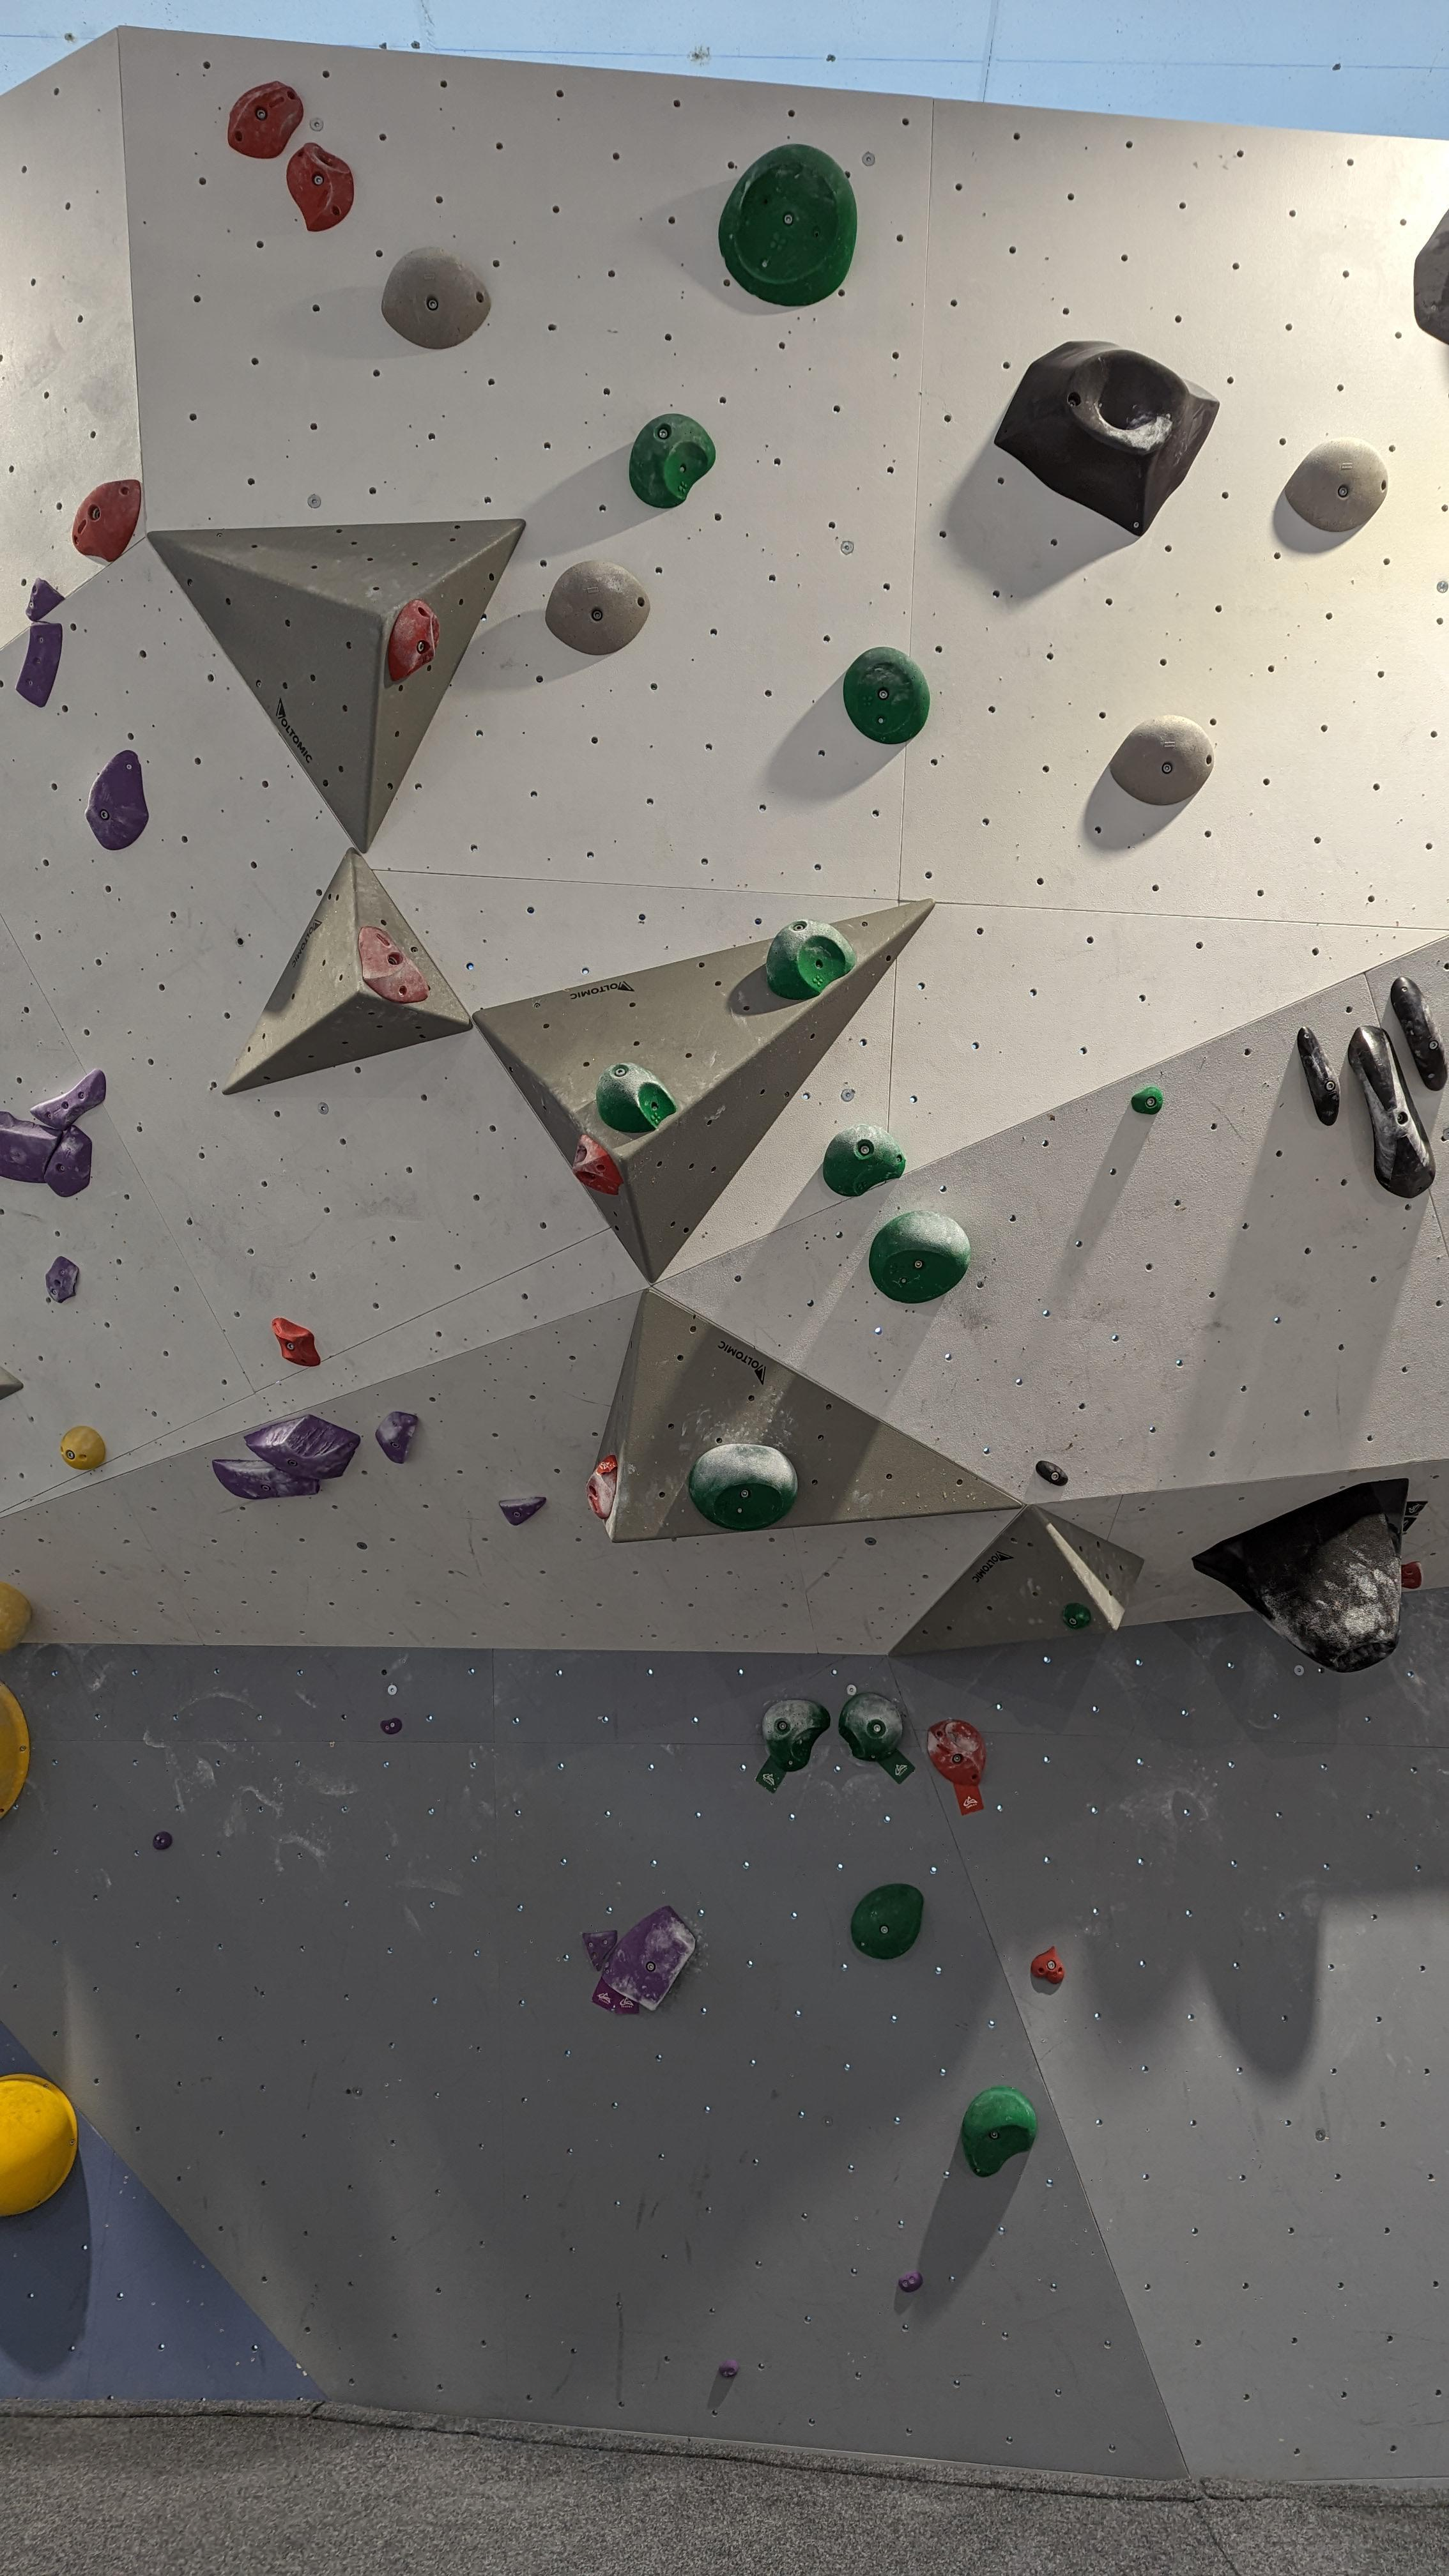hold: (994, 340, 1221, 536), (1192, 1477, 1410, 1672), (718, 143, 858, 306), (1348, 1026, 1435, 1198), (380, 246, 490, 349), (0, 2074, 78, 2217), (545, 559, 651, 655), (1284, 437, 1389, 533), (602, 1905, 695, 2012), (869, 1210, 971, 1304), (688, 1444, 798, 1530), (1109, 715, 1214, 805), (842, 646, 931, 745), (630, 414, 717, 508), (244, 1414, 361, 1479), (766, 918, 856, 1000), (961, 2086, 1039, 2176), (1391, 977, 1447, 1092), (85, 750, 149, 851), (823, 1123, 906, 1198), (228, 80, 304, 159), (287, 142, 354, 230), (596, 1062, 678, 1132), (851, 1882, 924, 1960), (73, 479, 142, 561), (359, 927, 430, 1003), (763, 1698, 830, 1773), (1414, 209, 1449, 345), (30, 1069, 106, 1131), (0, 1111, 64, 1184), (839, 1693, 902, 1762), (212, 1460, 320, 1500), (1297, 1026, 1341, 1125), (387, 600, 441, 681), (0, 1679, 30, 1819), (927, 1718, 987, 1787), (14, 621, 62, 708), (44, 1125, 92, 1196), (573, 1134, 623, 1196), (0, 1580, 32, 1654), (271, 1318, 320, 1366), (375, 1412, 418, 1463), (586, 1454, 617, 1520), (60, 1426, 106, 1470), (25, 579, 65, 621), (46, 1256, 80, 1302), (582, 1930, 617, 1971), (499, 1497, 547, 1525), (1031, 1946, 1065, 1983), (1131, 1086, 1164, 1115), (1035, 1461, 1069, 1486), (1062, 1603, 1092, 1629), (1401, 1560, 1424, 1589), (899, 2270, 924, 2293), (718, 2358, 740, 2378), (152, 1831, 172, 1851), (380, 1718, 402, 1734)
volume: (472, 899, 936, 1283), (147, 518, 525, 853), (587, 1290, 1023, 1543), (221, 847, 474, 1095), (888, 1504, 1145, 1658), (0, 1366, 23, 1399)
